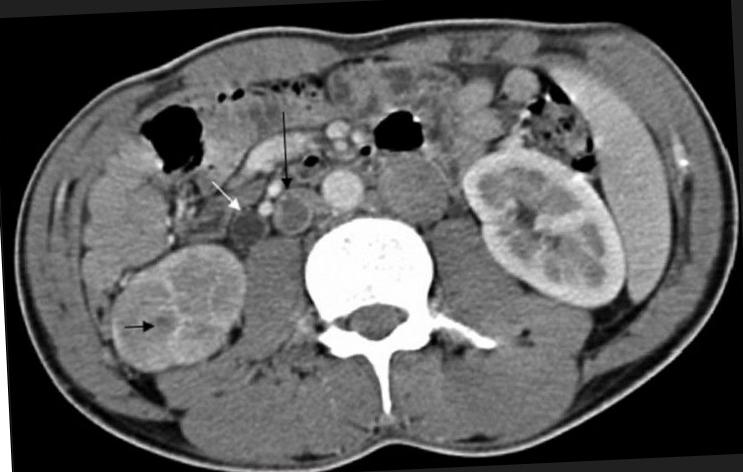anomaly: (270, 195, 316, 230)
